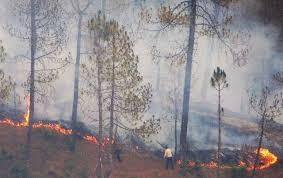fire: (0, 100, 117, 145)
